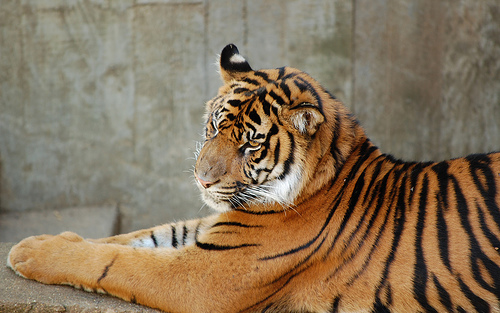Tigre: (163, 40, 497, 302)
